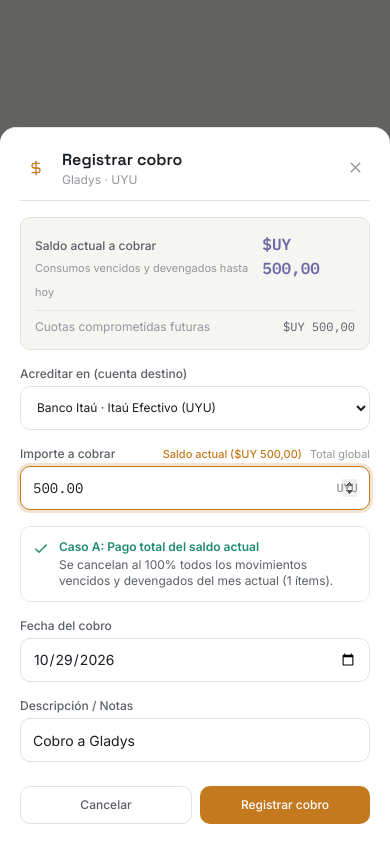
it: RegisterPersonPaymentModal › bloquea y advierte si el importe ingresado supera la deuda total acumulada
The width and height of the screenshot is (390, 844).
Replace the text in the number field with placeholder "0.00" with "1500": (195,488) x1=20 y1=466 x2=370 y2=510
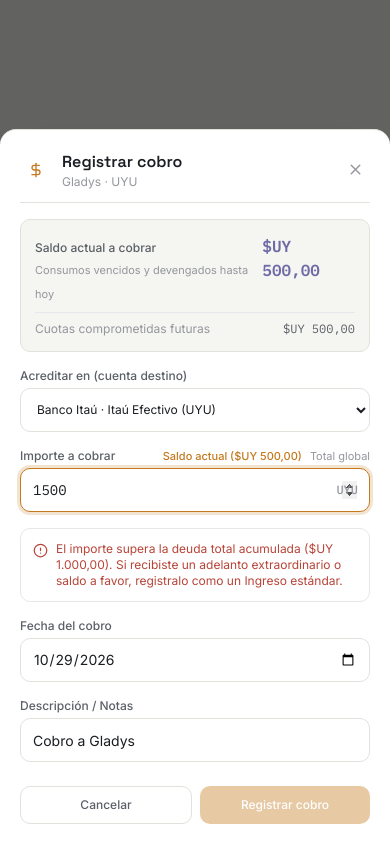
Result: the text "El importe supera la deuda total acumulada" is shown at x1=56 y1=541 x2=308 y2=556
Result: the button "Registrar cobro" is disabled at x1=200 y1=786 x2=370 y2=824
